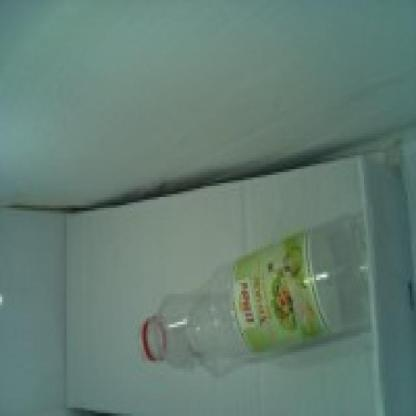Plastic Bottle: (140, 214, 370, 369)
